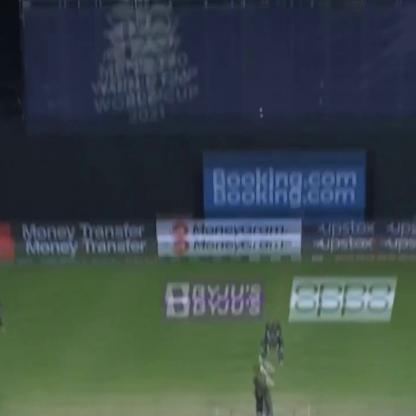ball: (256, 112, 267, 122), (256, 106, 266, 112)
